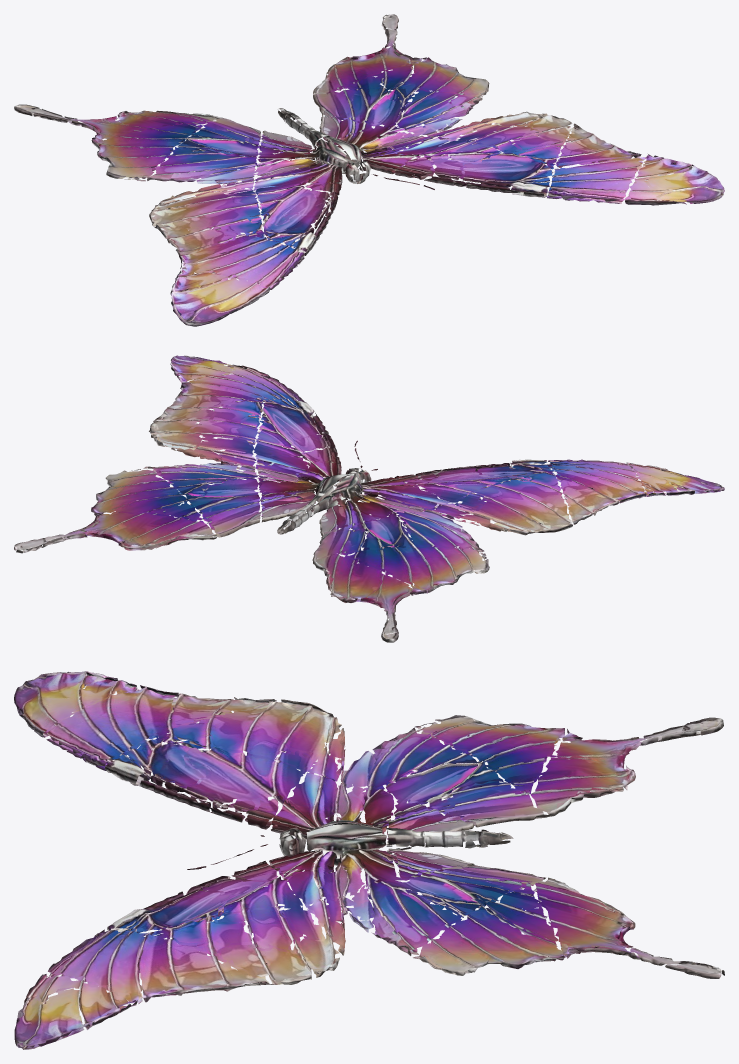
File: butterfly.glb
3 views of the same model, one above another, from view 1: azimuth 30°, elevation 25°; view 2: azimuth 150°, elevation 25°; view 3: azimuth 270°, elevation 25° (orthographic). The views are drawn at different scales.
Visible parts, largest first — view 1: wingPosX, wingNegX, body; view 2: wingNegX, wingPosX, body; view 3: wingPosX, wingNegX, body.
Boxes of the visible parts, x1,y1,x2,y2 form: wingPosX: [313, 14, 724, 205]; wingNegX: [14, 104, 352, 326]; body: [278, 108, 377, 183]; wingNegX: [312, 459, 724, 642]; wingPosX: [14, 355, 360, 553]; body: [277, 465, 377, 534]; wingPosX: [14, 835, 724, 1049]; wingNegX: [14, 671, 723, 852]; body: [260, 821, 513, 859].
Bounding box in the file's own units: 0.9762 × 0.056 × 0.7978.
1 material, 1 textured.
